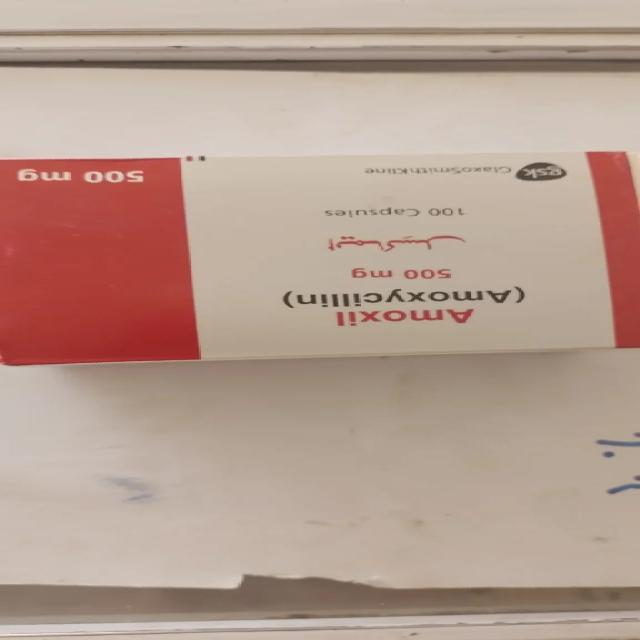drug-name: (331, 306, 480, 332)
